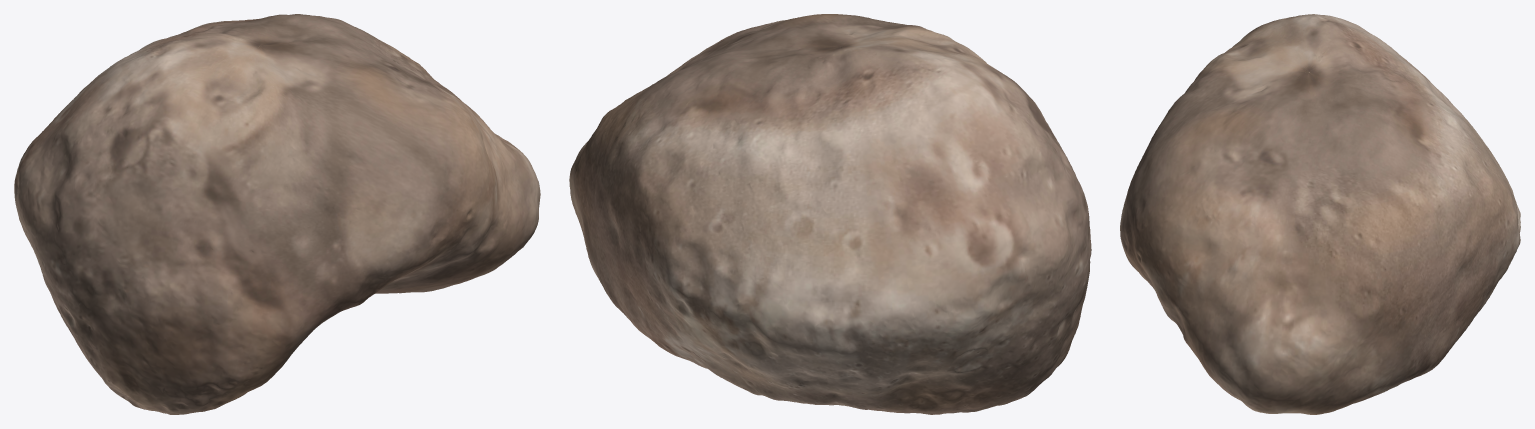
Rendered from deimos.glb.
The picture shows the model from 3 angles, left to right: view 1: azimuth 30°, elevation 25°; view 2: azimuth 150°, elevation 25°; view 3: azimuth 270°, elevation 25°; orthographic projection. The views are drawn at different scales.
Visible parts, largest first — view 1: Deimos.HiPoloy; view 2: Deimos.HiPoloy; view 3: Deimos.HiPoloy.
Part boxes in pixels (x1,y1,x2,y2): Deimos.HiPoloy: [14, 14, 540, 414]; Deimos.HiPoloy: [569, 14, 1091, 414]; Deimos.HiPoloy: [1120, 14, 1520, 414].
Bounding box in the file's own units: 3.88 × 2.58 × 2.96.
1 material, 1 textured.
